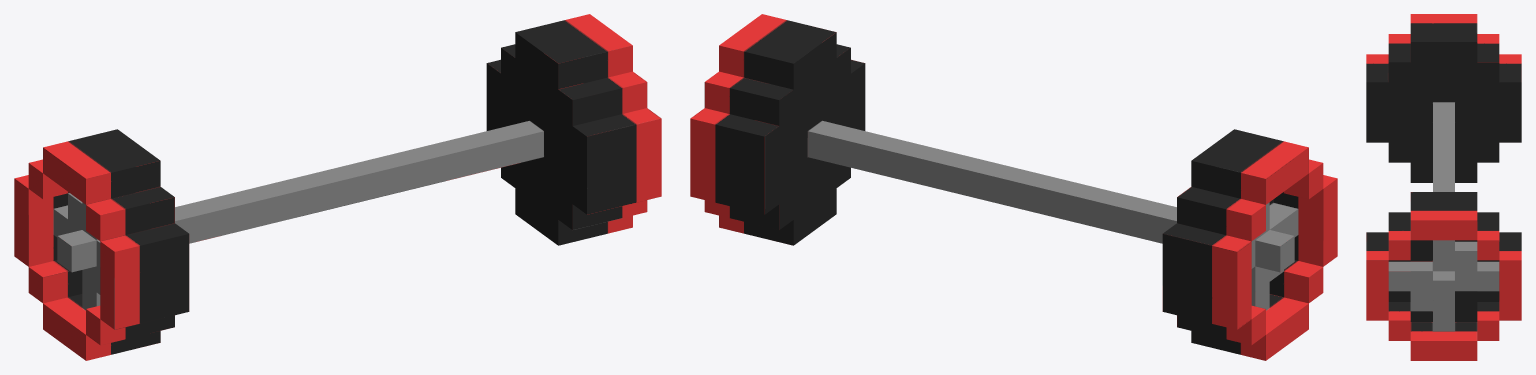
Rendered from Tractor_2_Rim_1.obj.
3 renders of one model, left to right at view 1: azimuth 30°, elevation 25°; view 2: azimuth 150°, elevation 25°; view 3: azimuth 270°, elevation 25°, orthographic. The views are drawn at different scales.
Visible parts, largest first — view 1: Tractor_2_Rim_1_Tractor_2_Rim_1.001; view 2: Tractor_2_Rim_1_Tractor_2_Rim_1.001; view 3: Tractor_2_Rim_1_Tractor_2_Rim_1.001.
Part boxes in pixels (<box>): Tractor_2_Rim_1_Tractor_2_Rim_1.001: <box>14,14,661,360</box>; Tractor_2_Rim_1_Tractor_2_Rim_1.001: <box>690,14,1337,360</box>; Tractor_2_Rim_1_Tractor_2_Rim_1.001: <box>1366,14,1521,360</box>.
Size of the model in its own units: 2.2 by 0.7 by 0.7.
